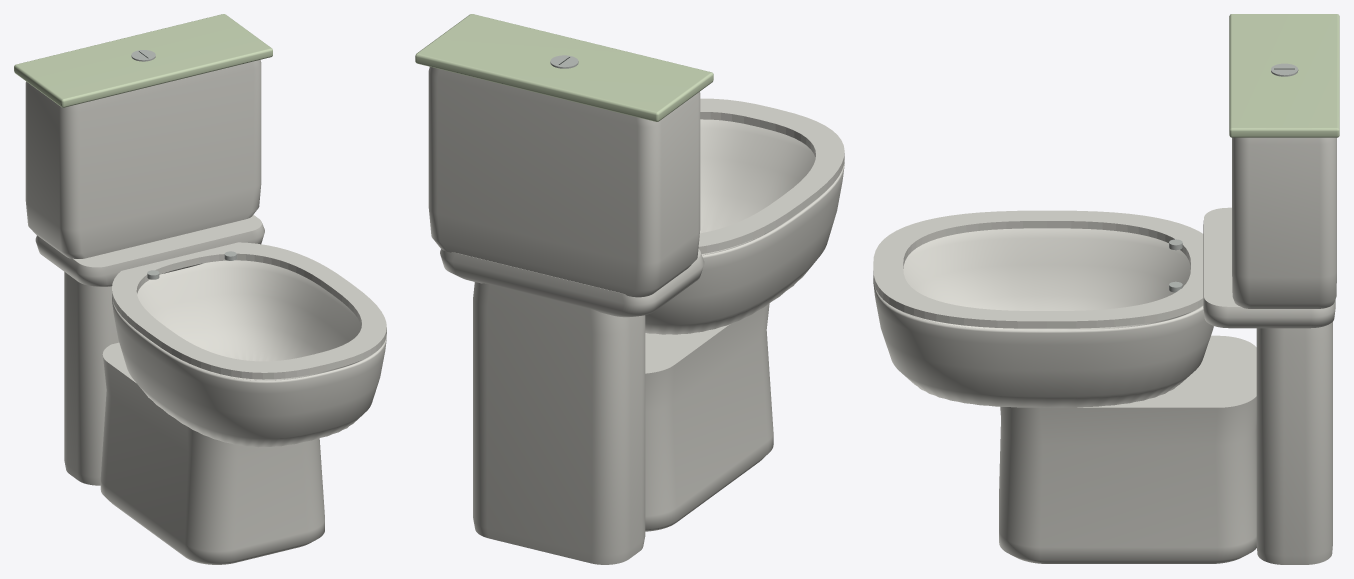
The model's file is one-piece-toilet.glb.
3 renders of one model, left to right at view 1: azimuth 30°, elevation 25°; view 2: azimuth 150°, elevation 25°; view 3: azimuth 270°, elevation 25°, orthographic. The views are drawn at different scales.
Parts seen in each view (by area): view 1: catalog_surface_RealismUV; view 2: catalog_surface_RealismUV; view 3: catalog_surface_RealismUV.
Boxes of the visible parts, bbox=[...] form: catalog_surface_RealismUV: bbox=[14, 14, 386, 564]; catalog_surface_RealismUV: bbox=[415, 14, 844, 564]; catalog_surface_RealismUV: bbox=[873, 14, 1339, 564].
Size of the model in its own units: 0.4 by 0.74 by 0.68.
